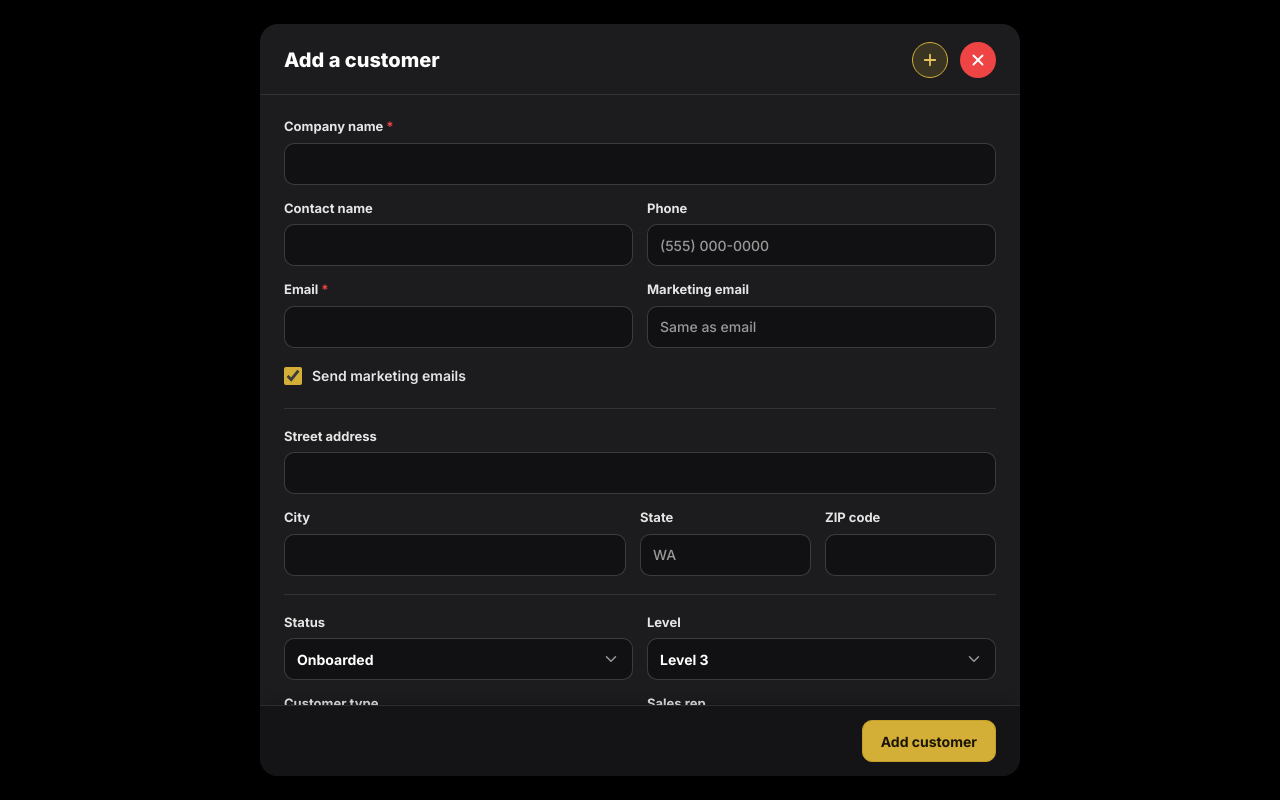
Test case: Add / Edit customer › shows the banner and does not save when the required fields are empty
Click the button "Add customer" at (929, 741), box [862,720,996,762]
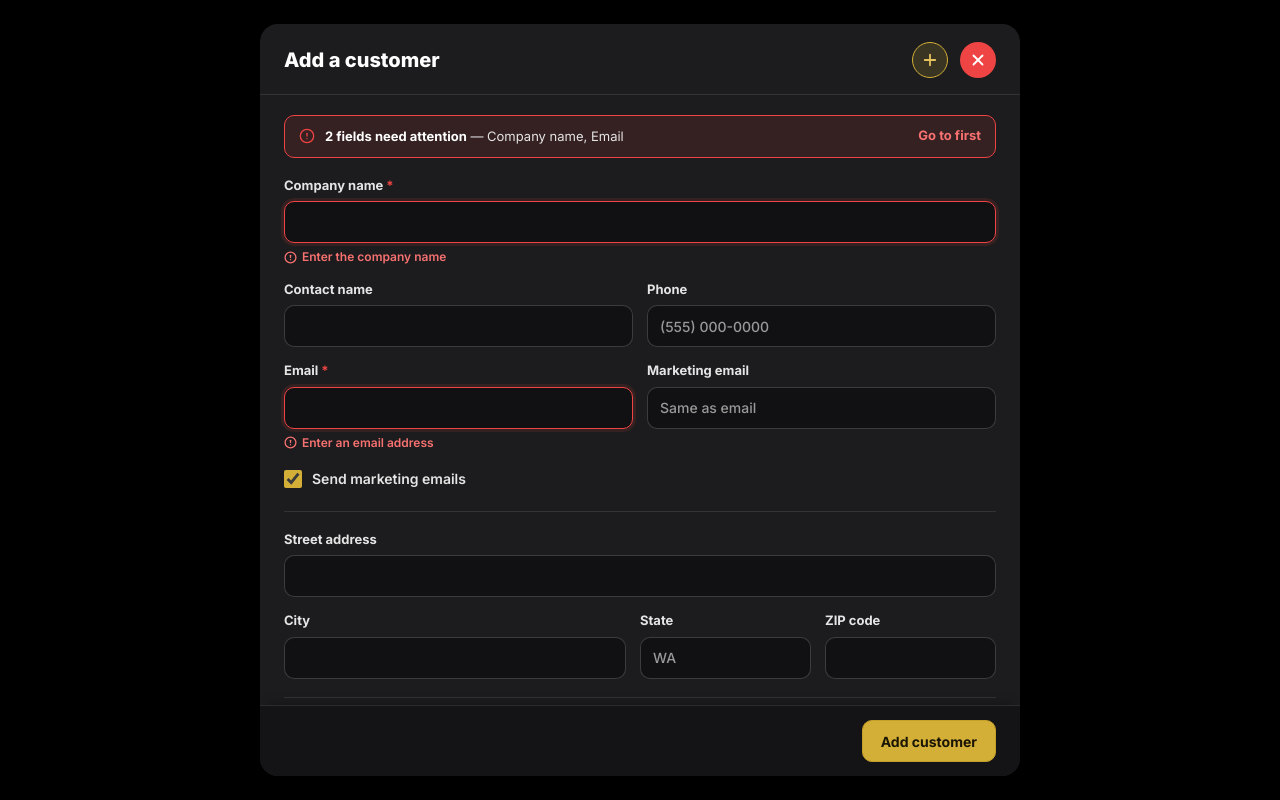
Check: the message "2 fields need attention — Company name, Email Go to first" is shown, box [284,115,996,158]
